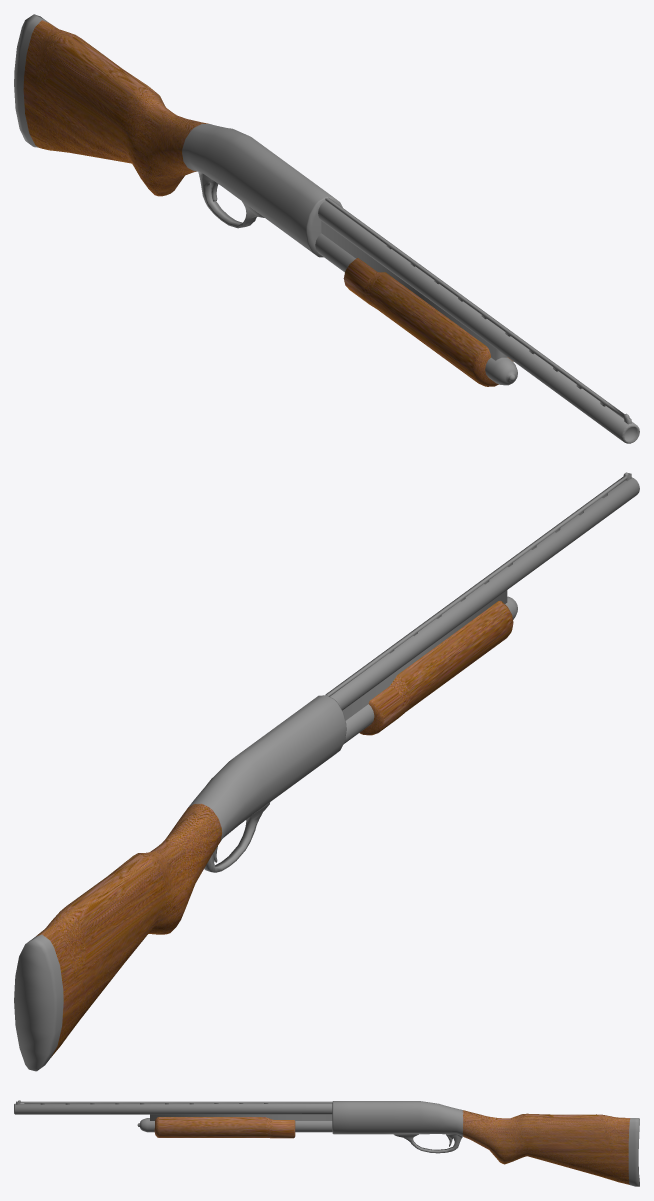
File: escopeta_01.fbx
3 views of the same model, one above another, from view 1: azimuth 30°, elevation 25°; view 2: azimuth 150°, elevation 25°; view 3: azimuth 270°, elevation 25° (orthographic). The views are drawn at different scales.
Visible parts, largest first — view 1: Escopeta_01; view 2: Escopeta_01; view 3: Escopeta_01.
Boxes of the visible parts, x1,y1,x2,y2 form: Escopeta_01: [14, 14, 639, 443]; Escopeta_01: [14, 472, 639, 1071]; Escopeta_01: [14, 1100, 639, 1186].
Bounding box in the file's own units: 0.0474 × 0.1842 × 1.21.
